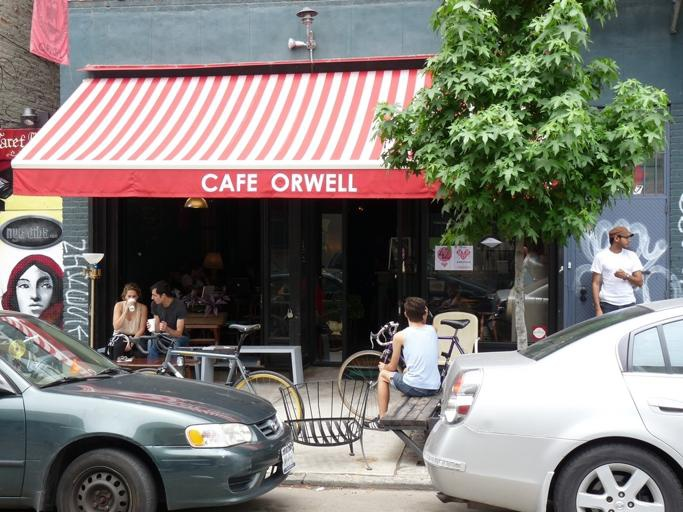non-vehicle: (124, 322, 303, 443), (336, 316, 470, 422)
